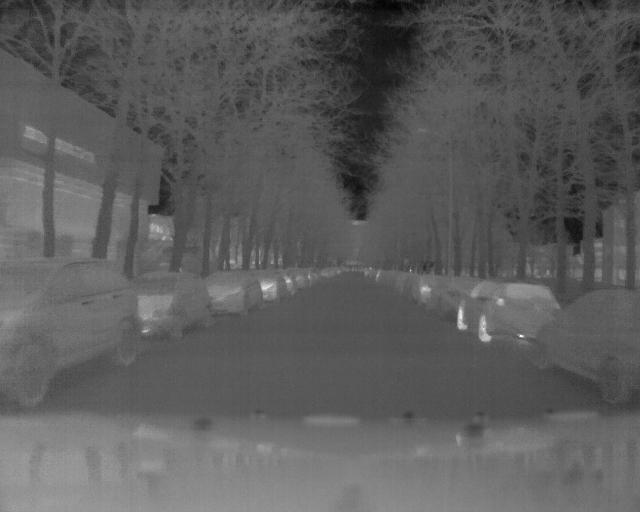car: (1, 251, 138, 409), (536, 277, 640, 398), (454, 267, 542, 340), (138, 264, 215, 338), (202, 264, 262, 320)
